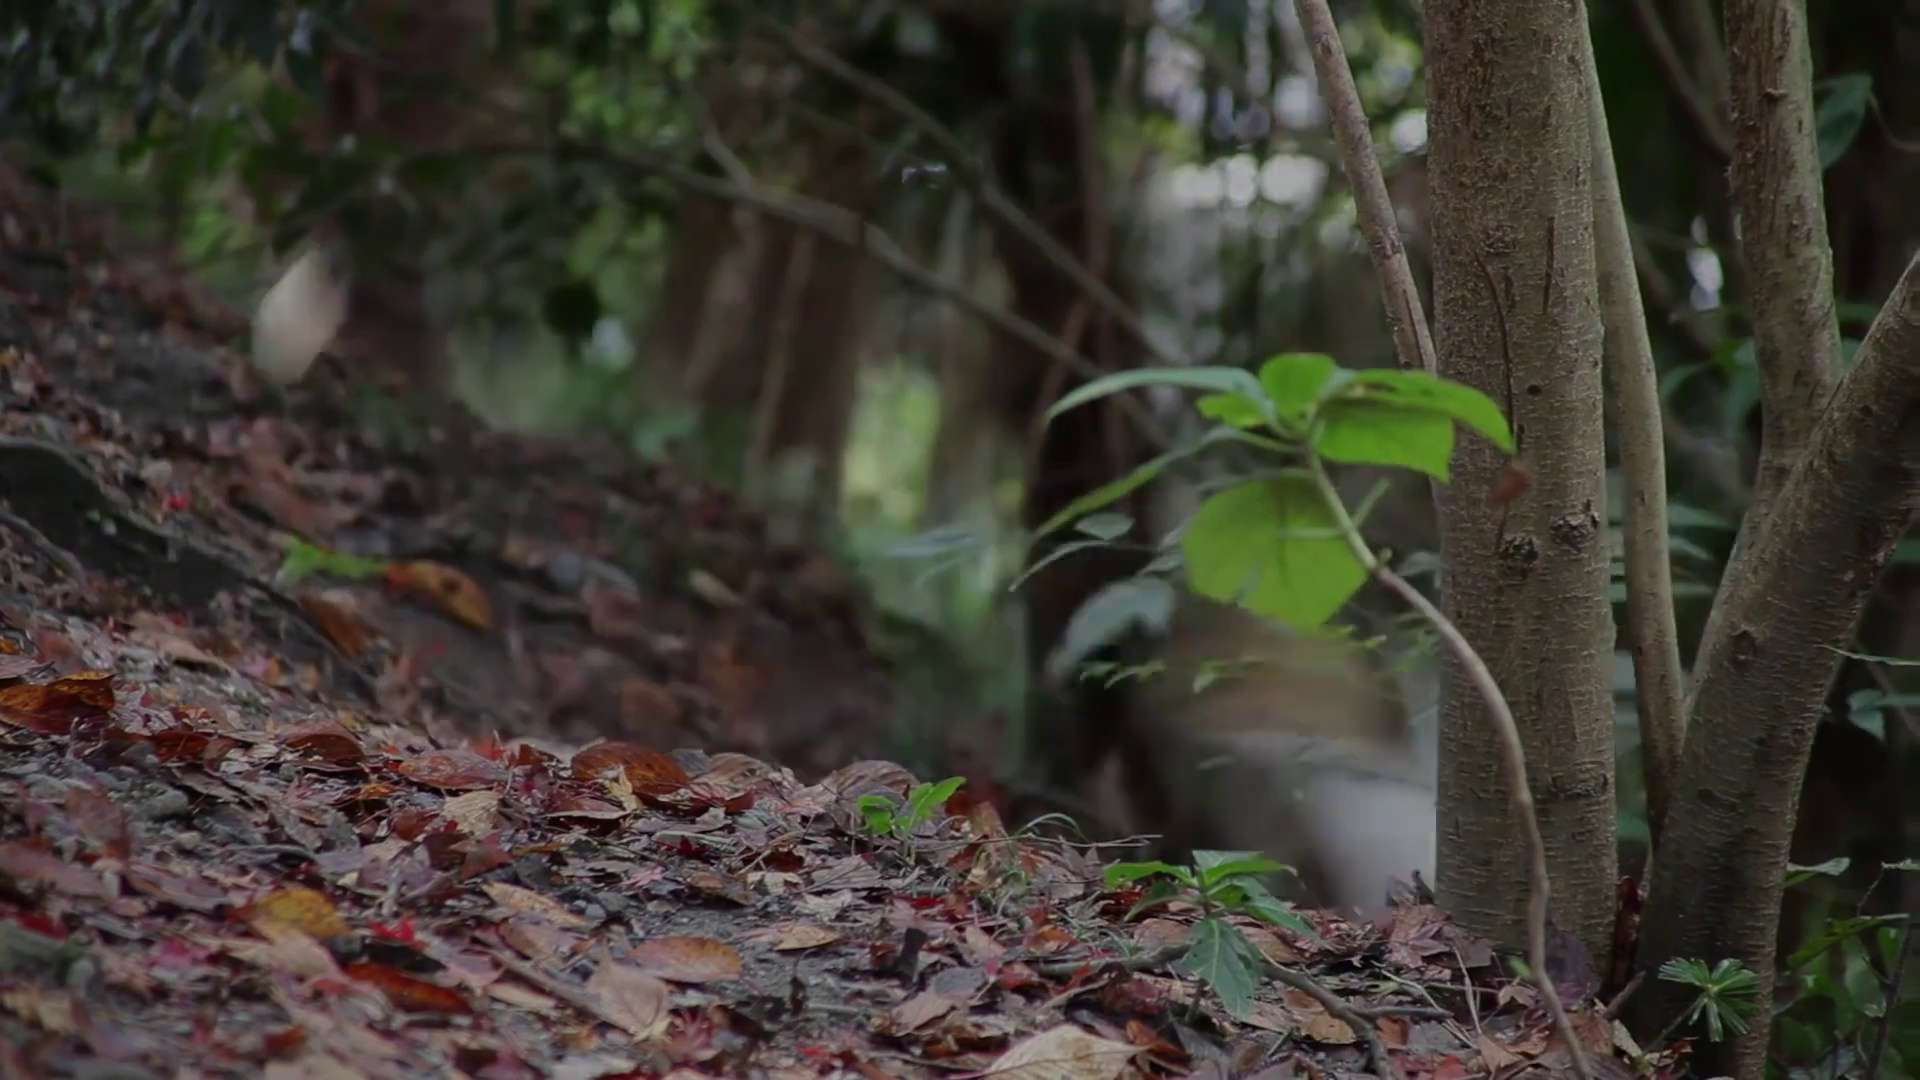black-white: (1162, 709, 1763, 898)
pure black: (1192, 628, 1698, 837)
